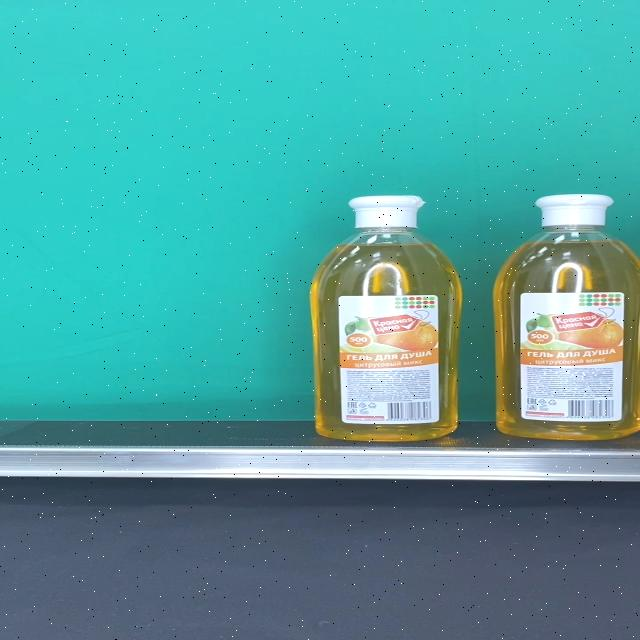Bottle: (310, 195, 461, 441), (494, 193, 640, 440)
Cap: (348, 195, 426, 229), (534, 194, 614, 226)
